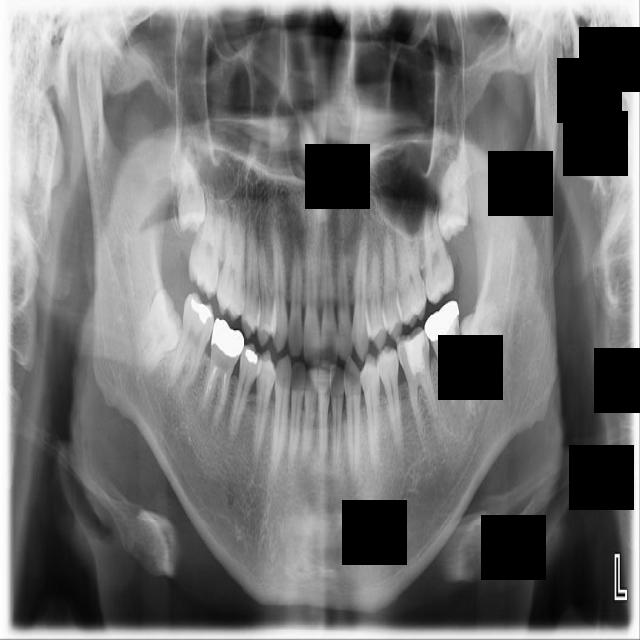3M ESPE Implant: (178, 152, 206, 232)
52: (198, 315, 254, 369), (390, 324, 440, 379), (240, 342, 262, 380)
73: (614, 554, 624, 574)
BioHorizons Implant: (422, 195, 456, 306)
BioLife Implant: (435, 142, 470, 243)
Biomet 3i Implant: (459, 299, 503, 385)
Blue Sky Bio Implant: (422, 299, 470, 408)
Caries: (185, 182, 228, 301)
Implant: (167, 289, 220, 391)
Keystone Dental Implant: (124, 285, 198, 378)
